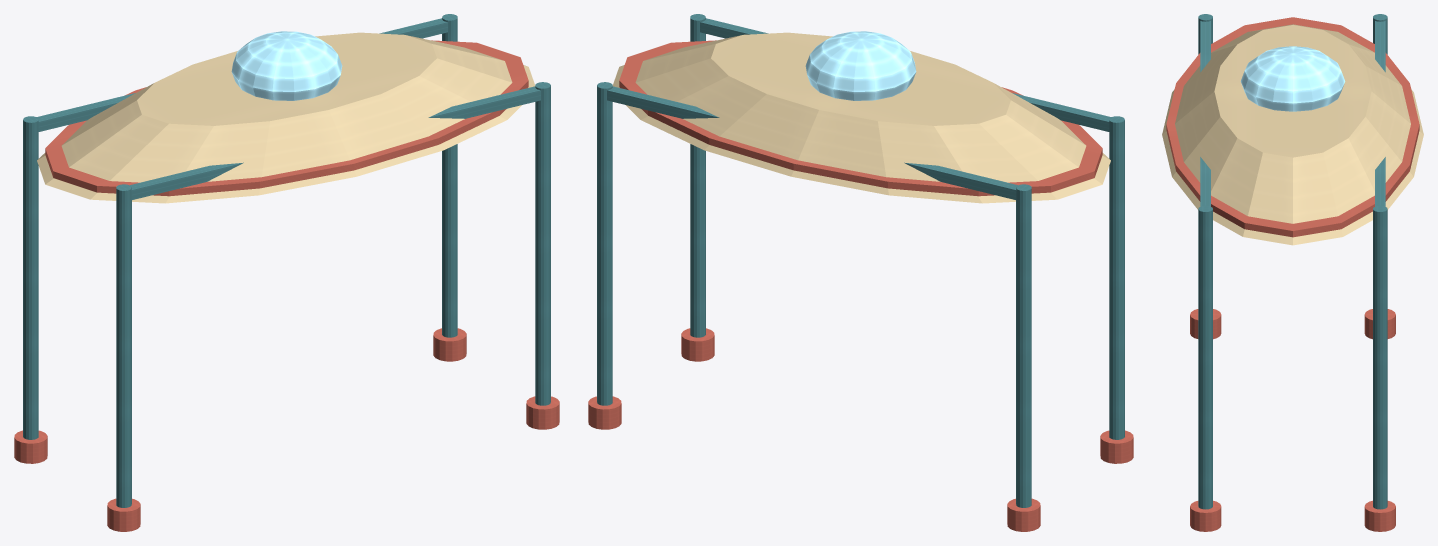
File: atlas100-s071-a08.glb
3 renders of one model, left to right at view 1: azimuth 30°, elevation 25°; view 2: azimuth 150°, elevation 25°; view 3: azimuth 270°, elevation 25°, orthographic. The views are drawn at different scales.
Parts seen in each view (by area): view 1: atlas100-s071-a08:part-010, atlas100-s071-a08:part-011, atlas100-s071-a08:part-012, atlas100-s071-a08:part-002, atlas100-s071-a08:part-000, atlas100-s071-a08:part-006, atlas100-s071-a08:part-004, atlas100-s071-a08:part-009, atlas100-s071-a08:part-008, atlas100-s071-a08:part-007, atlas100-s071-a08:part-005, atlas100-s071-a08:part-003 (+1 smaller); view 2: atlas100-s071-a08:part-010, atlas100-s071-a08:part-011, atlas100-s071-a08:part-012, atlas100-s071-a08:part-000, atlas100-s071-a08:part-002, atlas100-s071-a08:part-004, atlas100-s071-a08:part-006, atlas100-s071-a08:part-008, atlas100-s071-a08:part-009, atlas100-s071-a08:part-005, atlas100-s071-a08:part-007, atlas100-s071-a08:part-001 (+1 smaller); view 3: atlas100-s071-a08:part-010, atlas100-s071-a08:part-011, atlas100-s071-a08:part-012, atlas100-s071-a08:part-004, atlas100-s071-a08:part-006, atlas100-s071-a08:part-008, atlas100-s071-a08:part-009, atlas100-s071-a08:part-005, atlas100-s071-a08:part-007, atlas100-s071-a08:part-001, atlas100-s071-a08:part-003.
Boxes of the visible parts, x1,y1,x2,y2 form: atlas100-s071-a08:part-010: (37,32,535,203); atlas100-s071-a08:part-011: (45,40,528,196); atlas100-s071-a08:part-012: (231,31,342,100); atlas100-s071-a08:part-002: (116,184,131,507); atlas100-s071-a08:part-000: (23,116,38,439); atlas100-s071-a08:part-006: (535,82,550,405); atlas100-s071-a08:part-004: (442,14,457,337); atlas100-s071-a08:part-009: (130,86,540,199); atlas100-s071-a08:part-008: (36,18,447,131); atlas100-s071-a08:part-007: (526,396,559,429); atlas100-s071-a08:part-005: (433,328,466,361); atlas100-s071-a08:part-003: (107,498,140,531); atlas100-s071-a08:part-010: (612,32,1110,203); atlas100-s071-a08:part-011: (619,40,1102,196); atlas100-s071-a08:part-012: (805,31,916,100); atlas100-s071-a08:part-000: (1016,184,1031,507); atlas100-s071-a08:part-002: (1109,116,1124,439); atlas100-s071-a08:part-004: (597,82,612,405); atlas100-s071-a08:part-006: (690,14,705,337); atlas100-s071-a08:part-008: (607,86,1017,199); atlas100-s071-a08:part-009: (700,18,1111,131); atlas100-s071-a08:part-005: (588,396,621,429); atlas100-s071-a08:part-007: (681,328,714,361); atlas100-s071-a08:part-001: (1007,498,1040,531); atlas100-s071-a08:part-010: (1162,24,1423,245); atlas100-s071-a08:part-011: (1166,17,1419,237); atlas100-s071-a08:part-012: (1240,46,1345,111); atlas100-s071-a08:part-004: (1373,205,1387,509); atlas100-s071-a08:part-006: (1198,205,1212,509); atlas100-s071-a08:part-008: (1375,21,1385,206); atlas100-s071-a08:part-009: (1200,21,1210,206); atlas100-s071-a08:part-005: (1364,500,1395,531); atlas100-s071-a08:part-007: (1190,500,1221,531); atlas100-s071-a08:part-001: (1364,309,1395,339); atlas100-s071-a08:part-003: (1190,309,1221,339).
Size of the model in its own units: 6 by 4.75 by 3.
4 materials, 4 textured.
